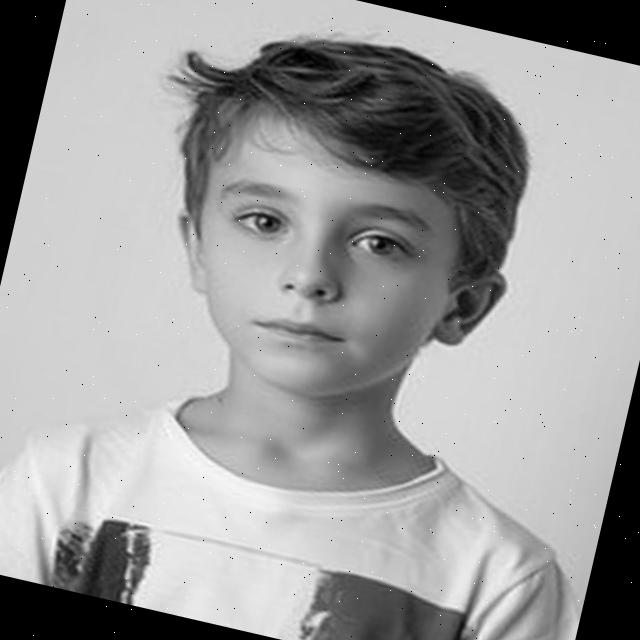Neutral: (166, 99, 483, 422)
